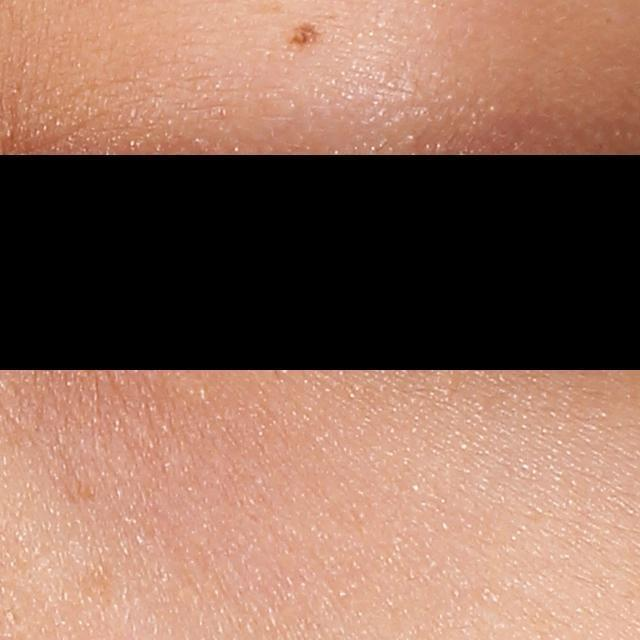melasma: (80, 559, 123, 608)
nevus: (288, 18, 321, 51)
